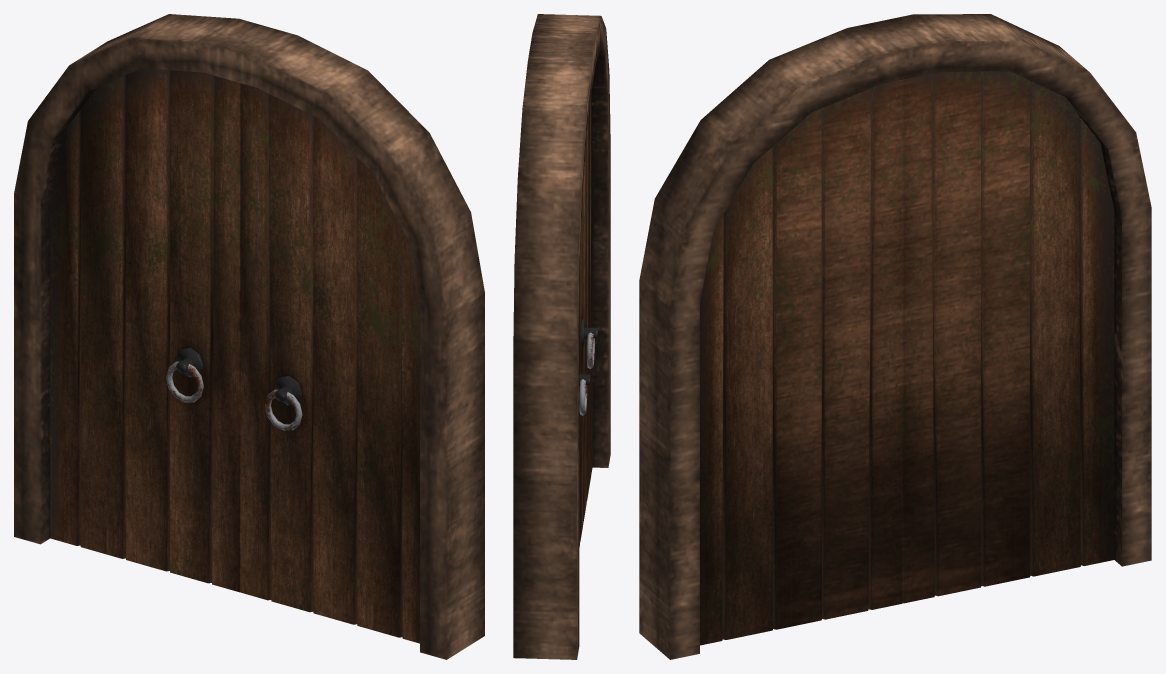
File: Dung_Door.glb
3 renders of one model, left to right at view 1: azimuth 30°, elevation 25°; view 2: azimuth 150°, elevation 25°; view 3: azimuth 270°, elevation 25°, orthographic. The views are drawn at different scales.
Parts seen in each view (by area): view 1: Door; view 2: Door; view 3: Door.
Boxes of the visible parts, box(x1,y1,x2,y2) form: Door: box(14, 14, 484, 659); Door: box(513, 14, 610, 659); Door: box(639, 14, 1151, 659).
Size of what is drawn, in the model's own units: 1.7 by 3.53 by 2.92.
1 material, 1 textured.
